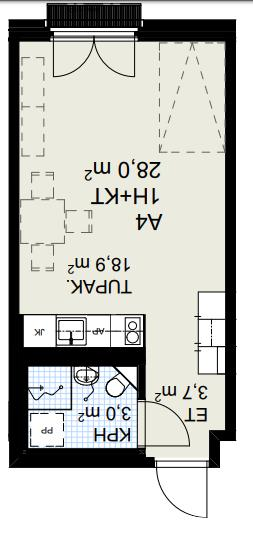bathroom: (30, 367, 137, 449)
door: (153, 454, 212, 521), (133, 400, 194, 450)
perimeter: (9, 18, 236, 470)
window: (46, 25, 140, 43)
